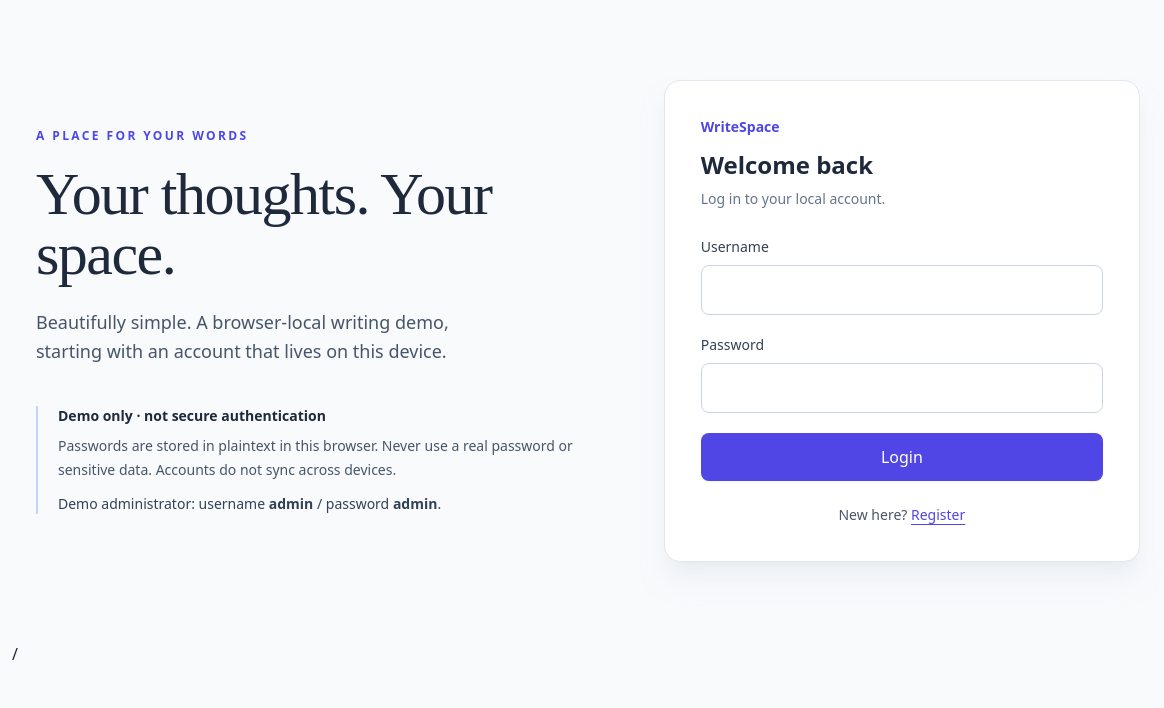
it: LoginPage.jsx › reports invalid credentials without persistence
Type "admin" into the field labelled "Username" at (902, 290), box [701,265,1103,315]
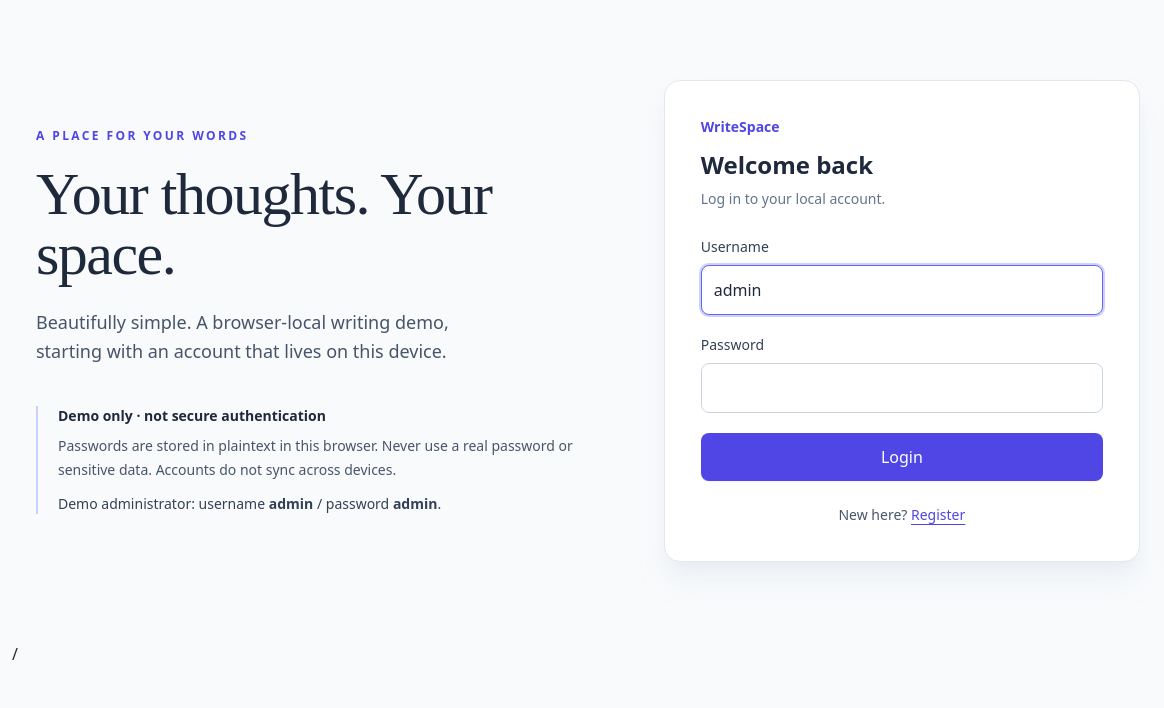
Type "wrong" into the password field labelled "Password" at (902, 388), box [701,363,1103,413]
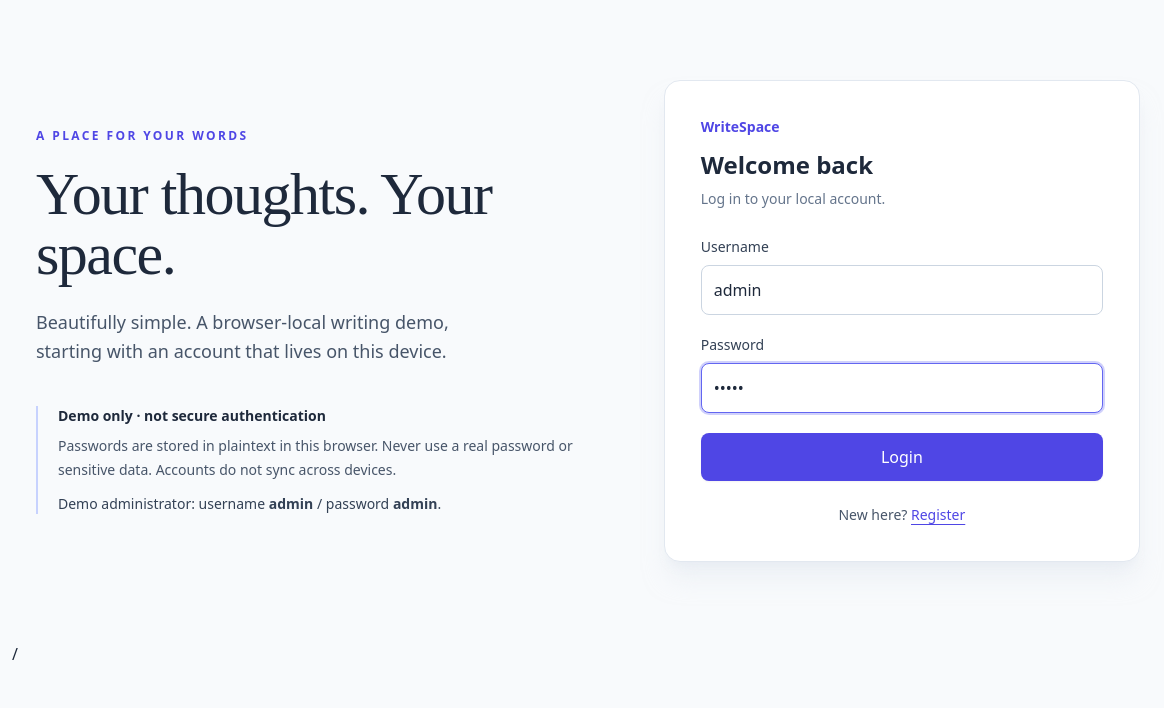
Click the button "Login" at (902, 457), box [701,433,1103,481]
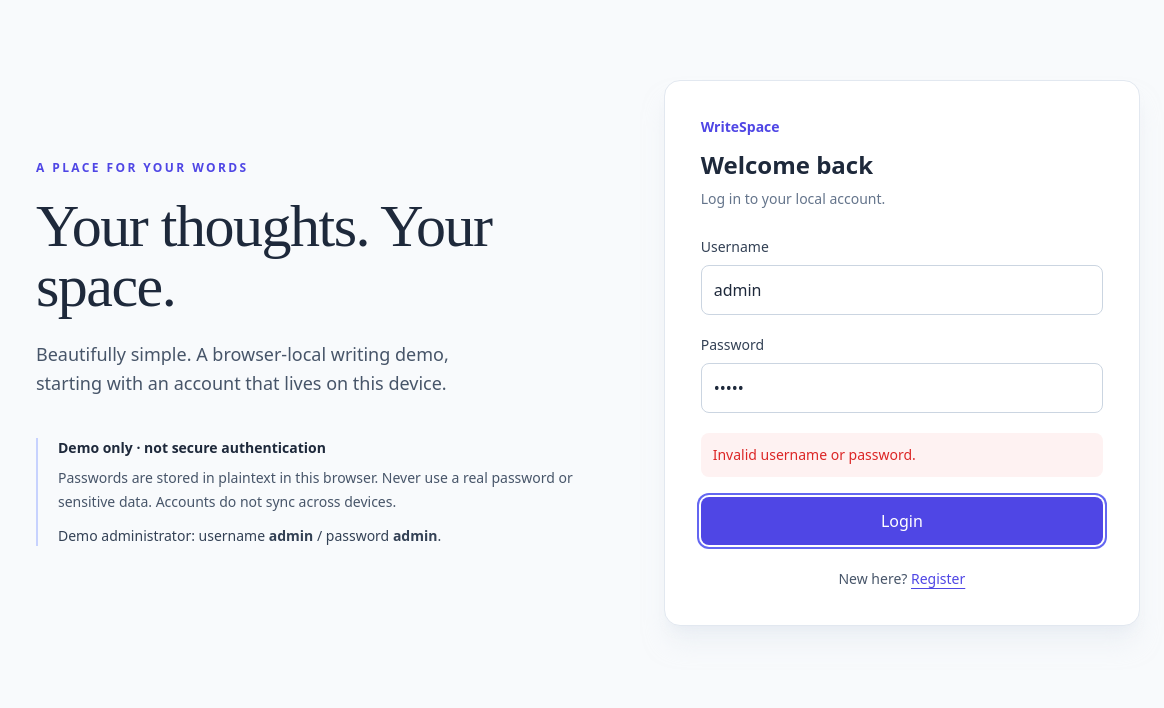
expect the message reads "Invalid username or password.": met, box [713,445,916,464]
